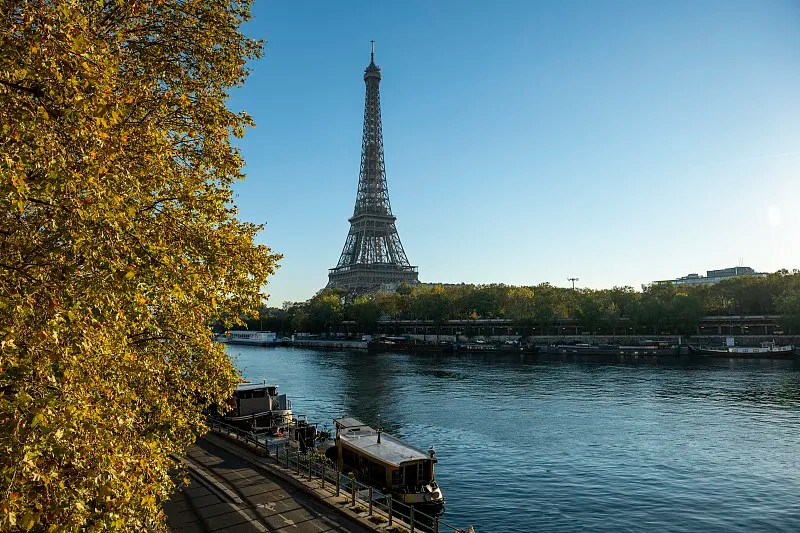Eiffel: (321, 41, 420, 304)
